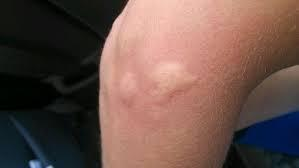Mosquito: (149, 62, 196, 104), (117, 71, 139, 105)
